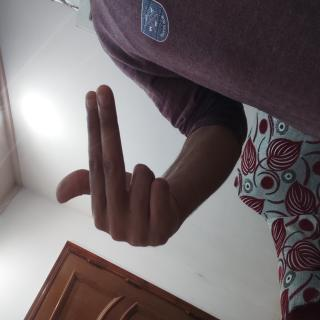GHAYN: (51, 78, 185, 260)
